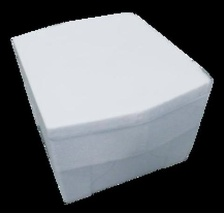foam_box: (7, 8, 216, 207)
